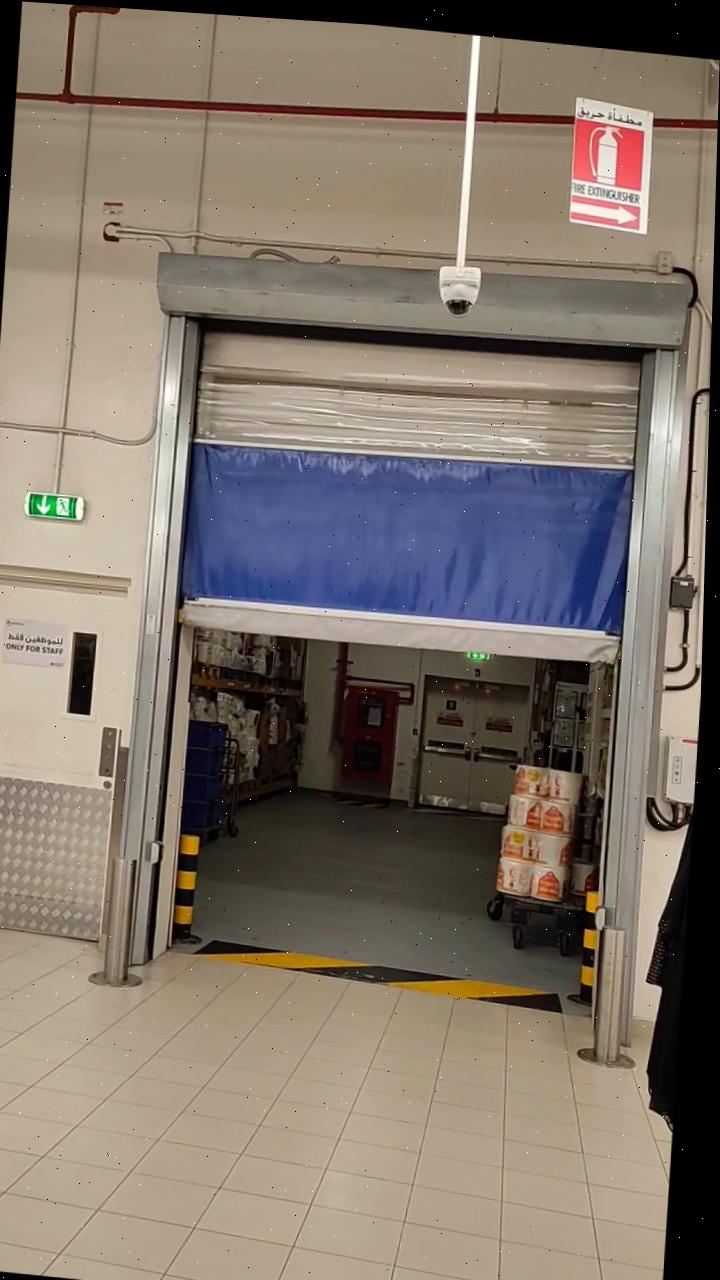Strip: (204, 920, 572, 1013)
